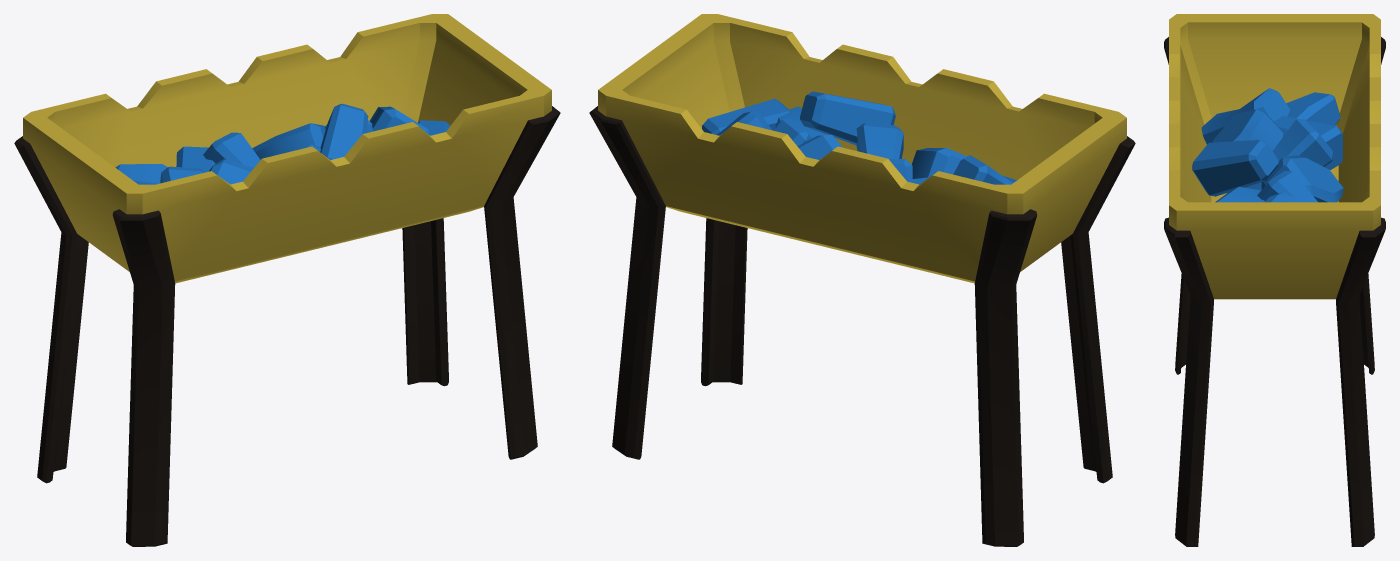
Rendered from Mangal-2.FBX.
3 renders of one model, left to right at view 1: azimuth 30°, elevation 25°; view 2: azimuth 150°, elevation 25°; view 3: azimuth 270°, elevation 25°, orthographic. The views are drawn at different scales.
Parts seen in each view (by area): view 1: Mangal-2; view 2: Mangal-2; view 3: Mangal-2.
Boxes of the visible parts, x1,y1,x2,y2 form: Mangal-2: (14, 14, 560, 546); Mangal-2: (589, 14, 1135, 546); Mangal-2: (1164, 14, 1385, 546).
Bounding box in the file's own units: 1032 × 473 × 805.
